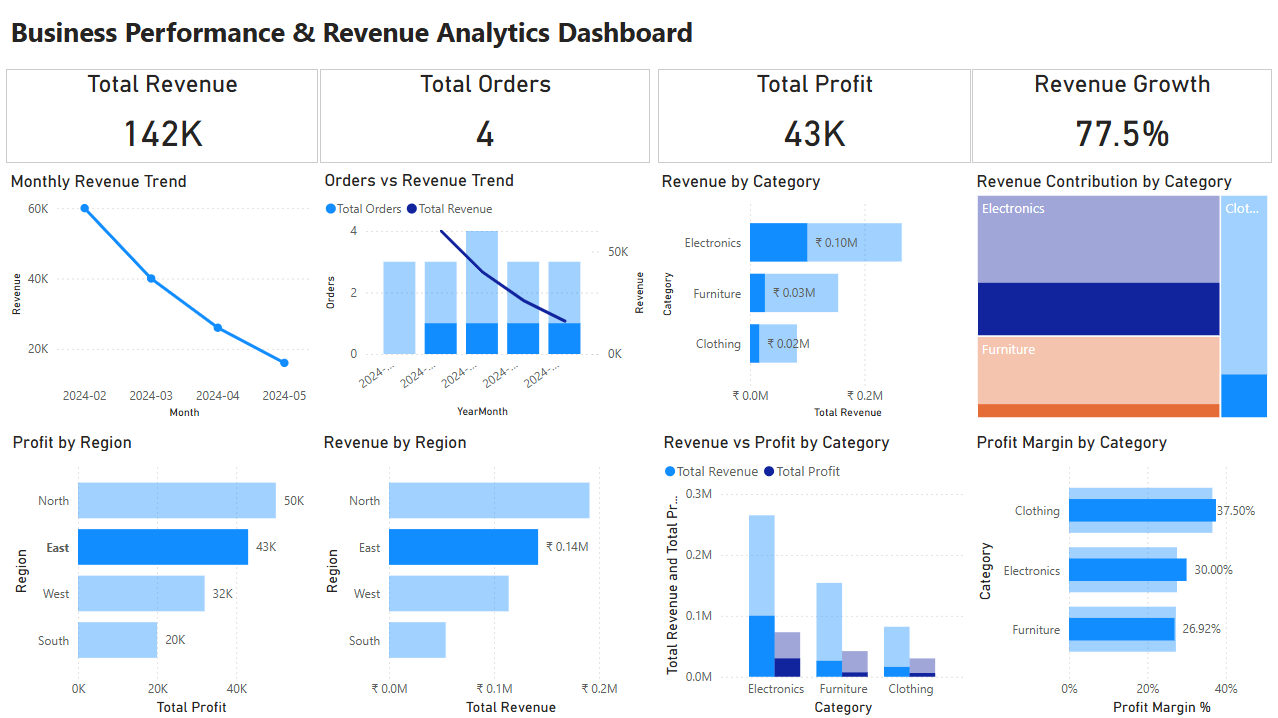

The dashboard page shown, as its layout file describes it:
{"tool":"powerbi","page":{"name":"Page 1","canvas":[1280,720],"ordinal":0},"visuals":[{"type":"card","title":"Total Revenue","fields":{"Values":["Sales.Total Revenue"]},"box":[8.3,69,311.9,93.9],"z":0},{"type":"card","title":"Total Orders","fields":{"Values":["Sales.Total Orders"]},"box":[322.1,69,330.4,93.9],"z":1000},{"type":"card","title":"Total Profit","fields":{"Values":["Sales.Total Profit"]},"box":[659.8,69,312.9,93.9],"z":2000},{"type":"card","title":"Revenue Growth ","fields":{"Values":["Sales.Revenue Growth % (MoM)"]},"box":[974.5,69,299.1,93.9],"z":3000},{"type":"lineChart","title":"Monthly Revenue Trend","fields":{"Y":["Sales.Total Revenue"],"Category":["Date.YearMonth"]},"box":[8.4,170.6,311.9,252.2],"z":4000},{"type":"lineClusteredColumnComboChart","title":"Orders vs Revenue Trend","fields":{"Category":["Date.YearMonth"],"Y":["Sales.Total Orders"],"Y2":["Sales.Total Revenue"]},"box":[322.1,170.2,330.4,252.1],"z":5000},{"type":"clusteredBarChart","title":"Revenue by Category","fields":{"Category":["Sales.Category"],"Y":["Sales.Total Revenue"]},"box":[659.4,170.6,312.9,252.2],"z":6000},{"type":"treemap","title":"Revenue Contribution by Category","fields":{"Group":["Sales.Category"],"Values":["Sales.Total Revenue"]},"box":[974.4,170.6,300.4,252.2],"z":7000},{"type":"clusteredColumnChart","title":"Revenue vs Profit by Category","fields":{"Category":["Sales.Category"],"Y":["Sales.Total Revenue","Sales.Total Profit"]},"box":[661.5,432.2,310.8,287.8],"z":8000},{"type":"barChart","title":"Profit Margin by Category","fields":{"Category":["Sales.Category"],"Y":["Sales.Profit Margin %"]},"box":[974.4,432.2,299.3,287.8],"z":9000},{"type":"barChart","title":"Revenue by Region","fields":{"Category":["Sales.Region"],"Y":["Sales.Total Revenue"]},"box":[321.3,432.2,338.1,287.8],"z":10000},{"type":"barChart","title":"Profit by Region","fields":{"Category":["Sales.Region"],"Y":["Sales.Total Profit"]},"box":[10.5,432.2,311.9,287.8],"z":11000},{"type":"textbox","box":[8.3,8.3,808.9,50.6],"z":12000}]}

Visuals, with their boxes in screenshot pixels (x1, y1, x2, y2), scaled from the page's 1280x720 canvas onto the 1278x718 screenshot:
"Total Revenue" card: (left=8, top=69, right=320, bottom=162)
"Total Orders" card: (left=322, top=69, right=651, bottom=162)
"Total Profit" card: (left=659, top=69, right=971, bottom=162)
"Revenue Growth " card: (left=973, top=69, right=1272, bottom=162)
"Monthly Revenue Trend" lineChart: (left=8, top=170, right=320, bottom=422)
"Orders vs Revenue Trend" lineClusteredColumnComboChart: (left=322, top=170, right=651, bottom=421)
"Revenue by Category" clusteredBarChart: (left=658, top=170, right=971, bottom=422)
"Revenue Contribution by Category" treemap: (left=973, top=170, right=1273, bottom=422)
"Revenue vs Profit by Category" clusteredColumnChart: (left=660, top=431, right=971, bottom=717)
"Profit Margin by Category" barChart: (left=973, top=431, right=1272, bottom=717)
"Revenue by Region" barChart: (left=321, top=431, right=658, bottom=717)
"Profit by Region" barChart: (left=10, top=431, right=322, bottom=717)
textbox: (left=8, top=8, right=816, bottom=59)
